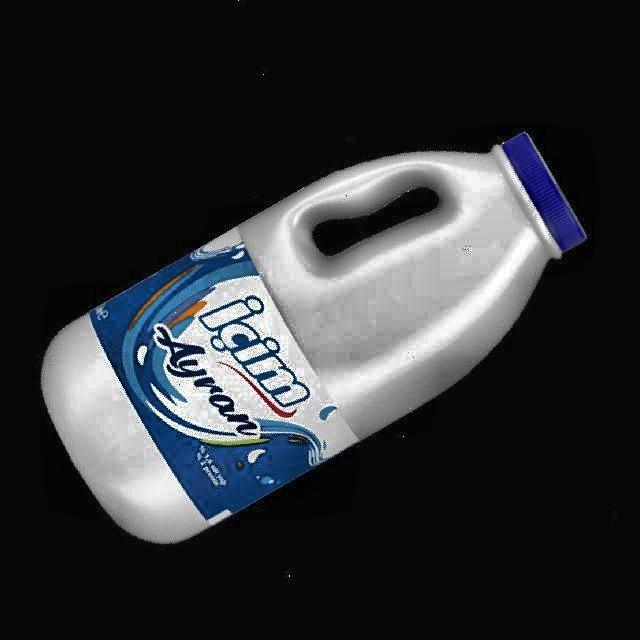plastic: (42, 135, 584, 542)
